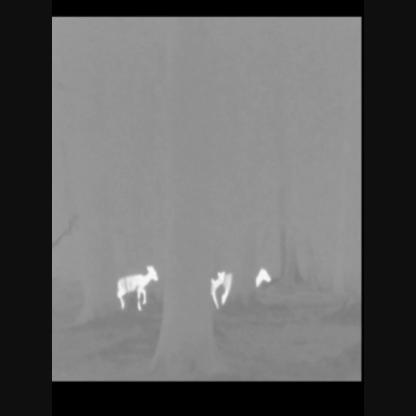rehkitze: (118, 267, 159, 314), (209, 270, 233, 315), (259, 267, 273, 292)
